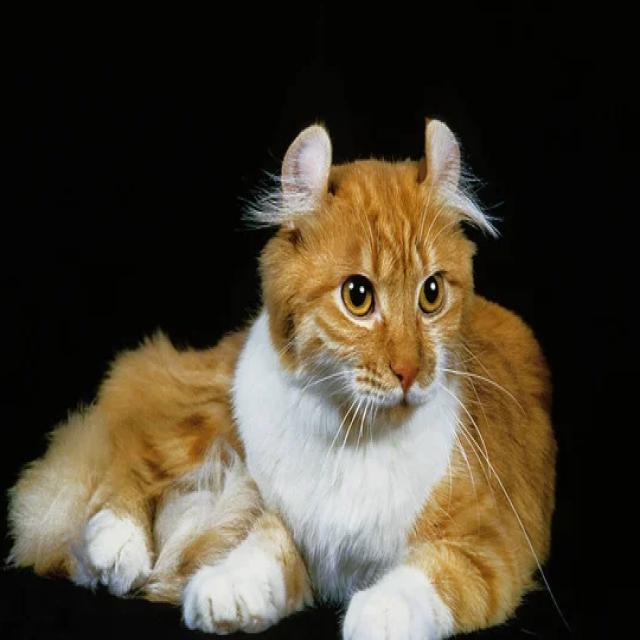American Curl: (2, 110, 562, 640)
